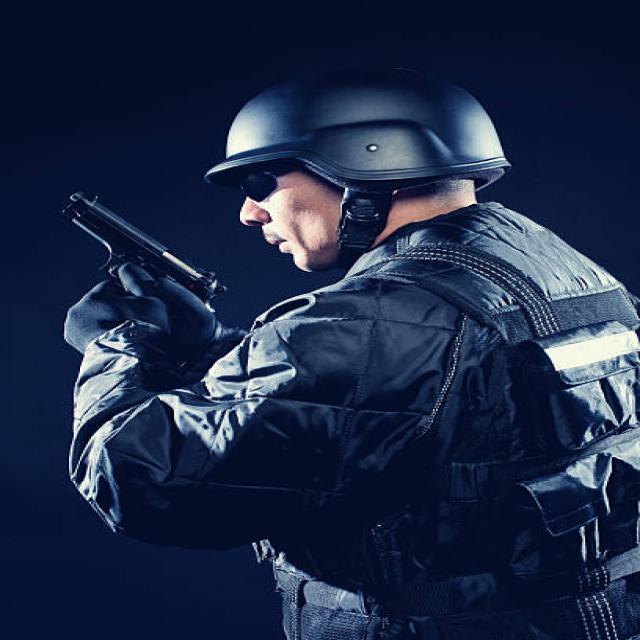soldier: (72, 68, 640, 635)
